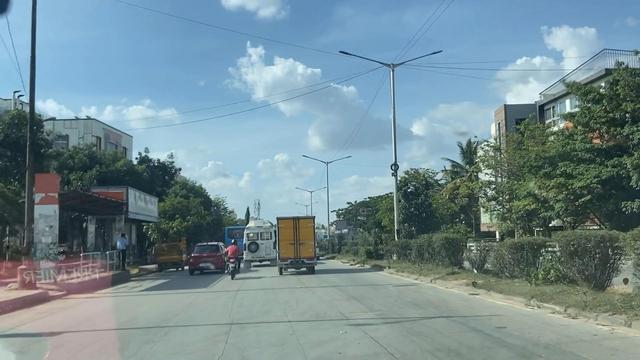HMV: (275, 215, 320, 276), (247, 219, 279, 265)
LMV: (193, 239, 228, 270), (227, 239, 243, 277)
